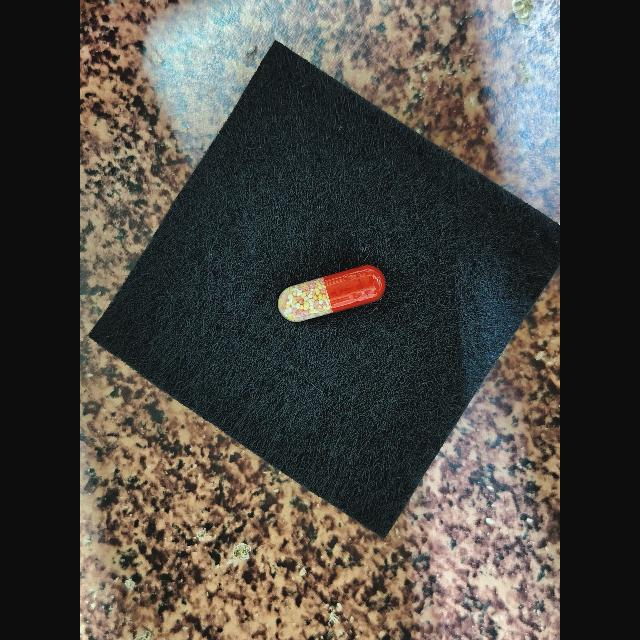Intact Capsule: (278, 265, 385, 322)
